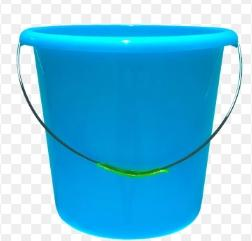SEAU: (3, 4, 248, 241)
